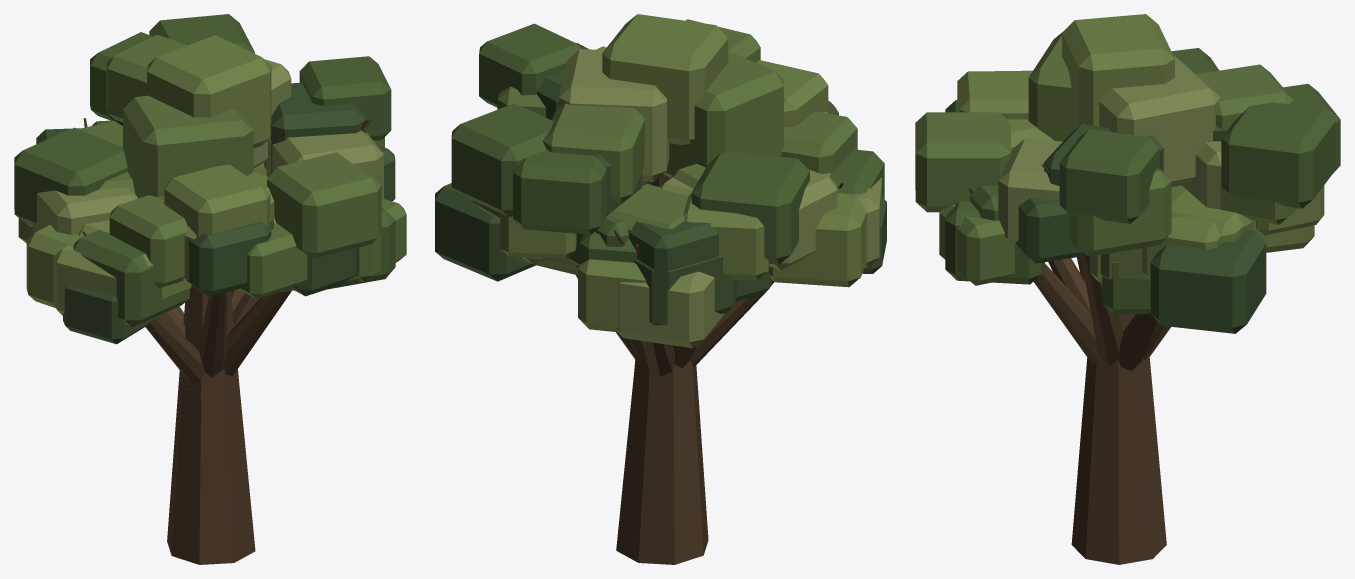
File: oak_mature_spring_3.glb
3 renders of one model, left to right at view 1: azimuth 30°, elevation 25°; view 2: azimuth 150°, elevation 25°; view 3: azimuth 270°, elevation 25°, orthographic. The views are drawn at different scales.
Visible parts, largest first — view 1: oak_mature_spring_3; view 2: oak_mature_spring_3; view 3: oak_mature_spring_3.
Boxes of the visible parts, left/top/right/bottom form: oak_mature_spring_3: left=14, top=14, right=406, bottom=564; oak_mature_spring_3: left=435, top=14, right=886, bottom=564; oak_mature_spring_3: left=915, top=14, right=1340, bottom=564.
Bounding box in the file's own units: 12.99 × 17 × 12.86.
